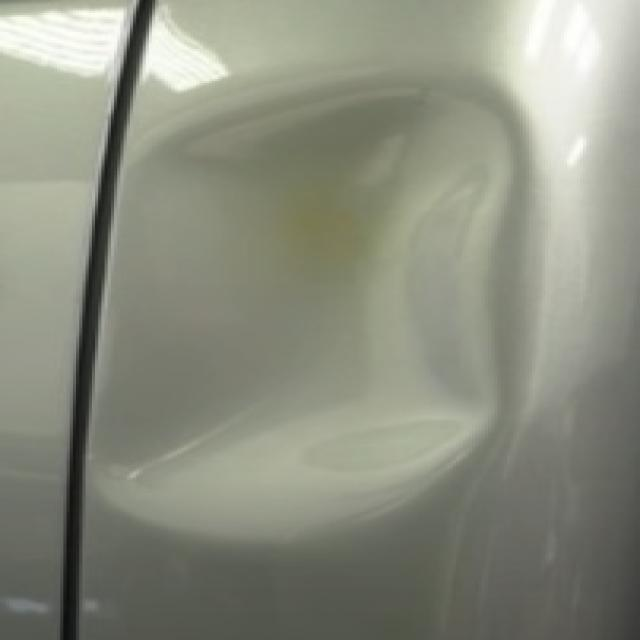dent: (92, 77, 517, 544)
